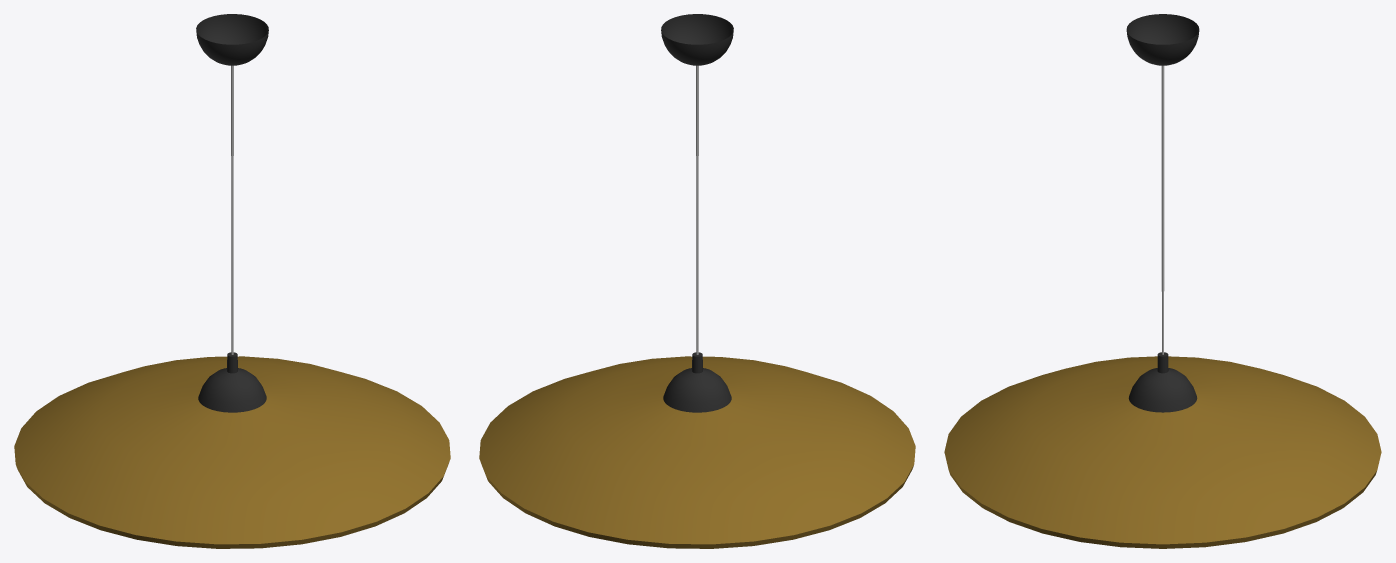
Rendered from Roof_Light.FBX.
3 renders of one model, left to right at view 1: azimuth 30°, elevation 25°; view 2: azimuth 150°, elevation 25°; view 3: azimuth 270°, elevation 25°, orthographic.
Parts seen in each view (by area): view 1: chandelierYellowGlass; view 2: chandelierYellowGlass; view 3: chandelierYellowGlass.
Boxes of the visible parts, x1,y1,x2,y2 form: chandelierYellowGlass: [14, 14, 450, 548]; chandelierYellowGlass: [479, 14, 915, 548]; chandelierYellowGlass: [944, 14, 1381, 548].
Size of the model in its own units: 18.08 by 20.48 by 18.08.
